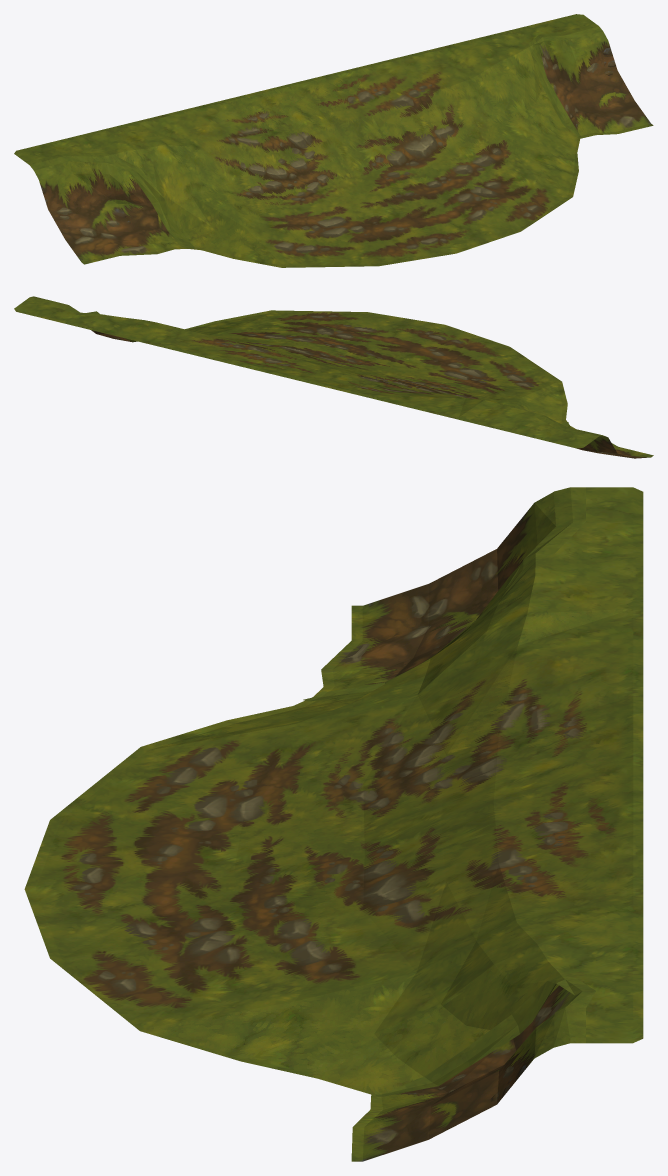
File: tundra_ramp_large01.fbx
3 renders of one model, top to bottom at view 1: azimuth 30°, elevation 25°; view 2: azimuth 150°, elevation 25°; view 3: azimuth 270°, elevation 25°, orthographic. The views are drawn at different scales.
Visible parts, largest first — view 1: obj3.010; view 2: obj3.010; view 3: obj3.010.
Boxes of the visible parts, bbox=[...] form: obj3.010: bbox=[14, 14, 653, 267]; obj3.010: bbox=[14, 296, 653, 458]; obj3.010: bbox=[24, 487, 643, 1161].
Bounding box in the file's own units: 40 × 4.01 × 18.82.
